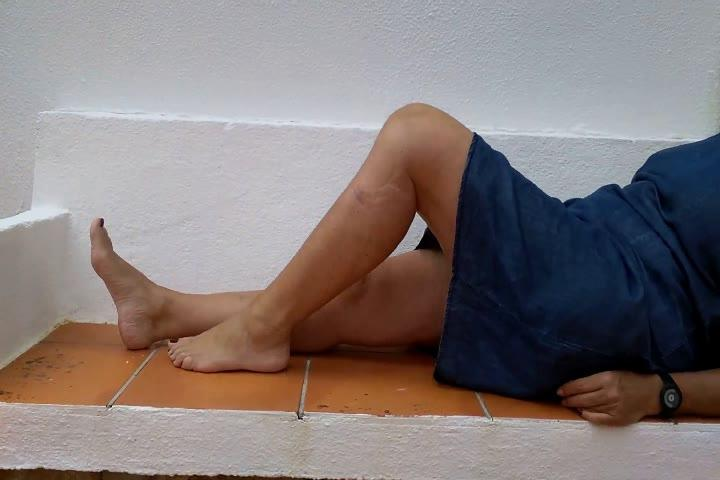lower_body: (85, 96, 679, 410)
